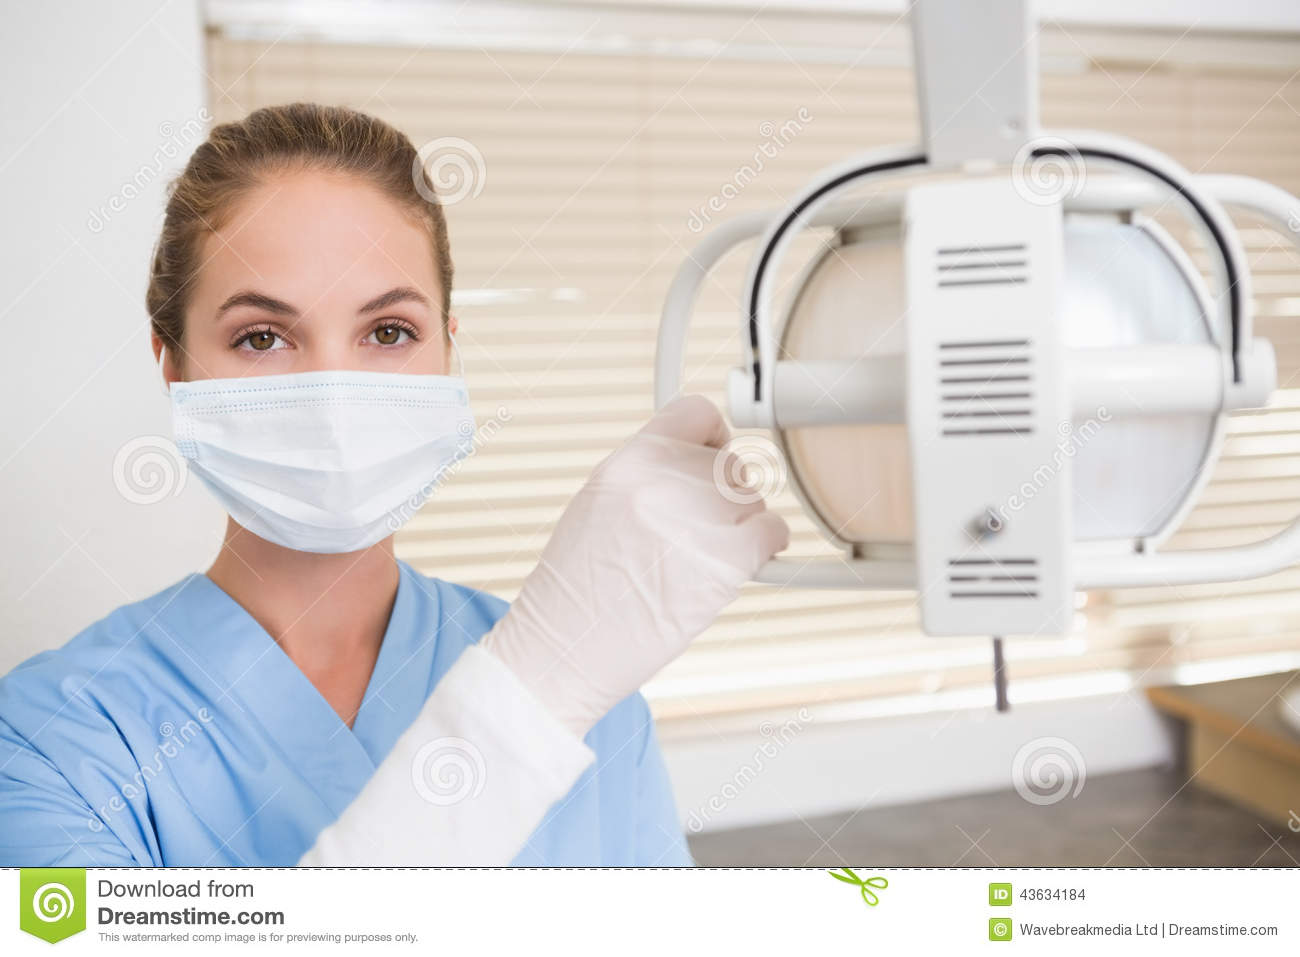mask: (151, 366, 485, 554)
